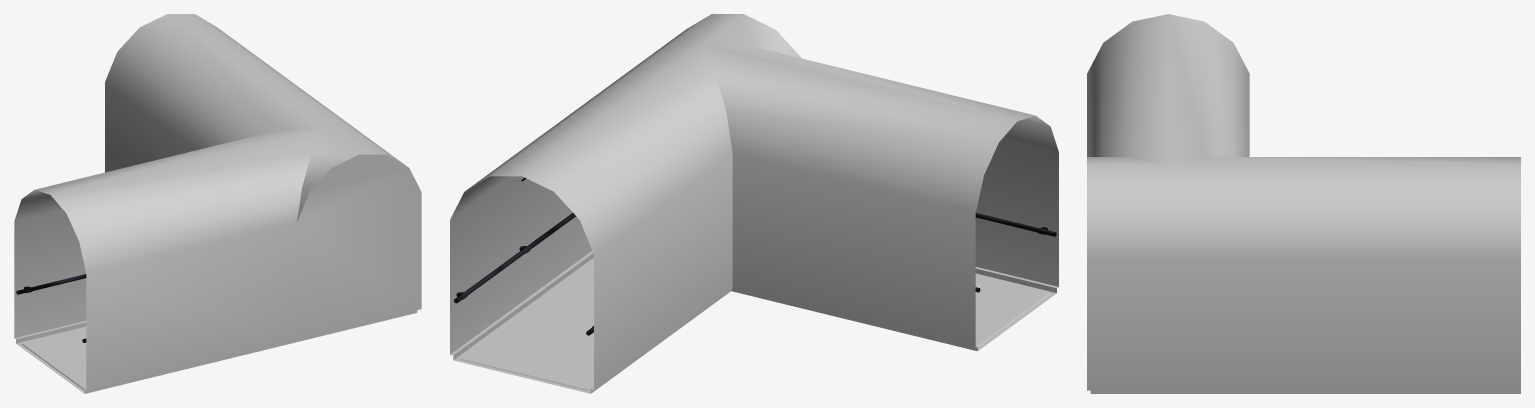
File: section_Corner.fbx
The picture shows the model from 3 angles, left to right: view 1: azimuth 30°, elevation 25°; view 2: azimuth 150°, elevation 25°; view 3: azimuth 270°, elevation 25°; orthographic projection. The views are drawn at different scales.
Parts seen in each view (by area): view 1: section_Corner; view 2: section_Corner; view 3: section_Corner.
Boxes of the visible parts, bbox=[...] form: section_Corner: bbox=[14, 14, 421, 393]; section_Corner: bbox=[450, 14, 1058, 393]; section_Corner: bbox=[1087, 14, 1520, 393].
Size of the model in its own units: 807 by 400 by 800.
